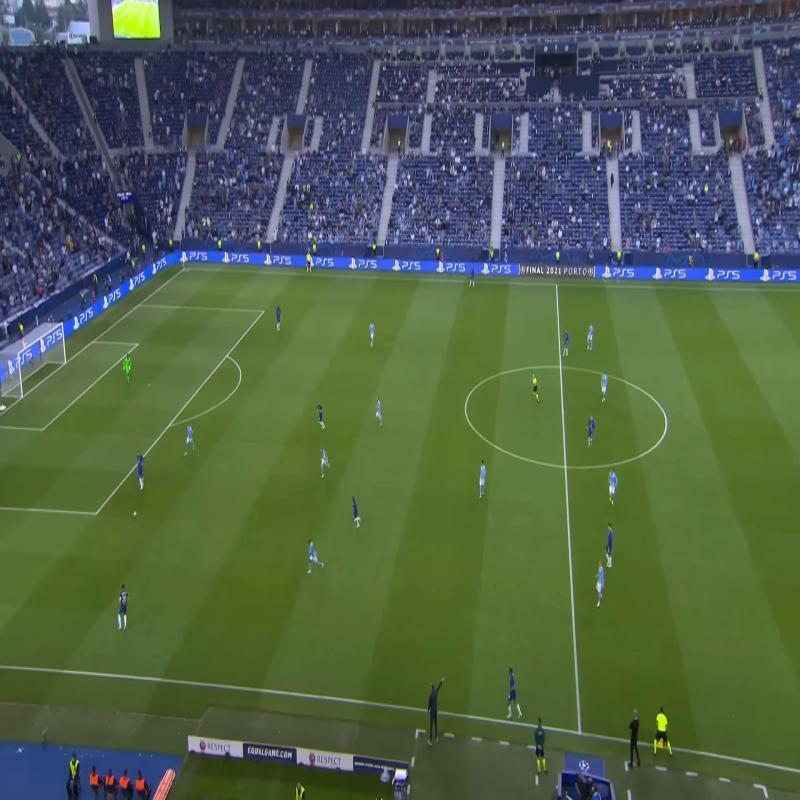1: (178, 262, 192, 276)
10: (220, 348, 234, 362)
11: (162, 418, 178, 432)
12: (88, 506, 104, 522)
13: (550, 278, 564, 292)
14: (555, 361, 566, 373)
15: (559, 460, 572, 473)
16: (572, 726, 588, 742)
2: (132, 298, 147, 313)
3: (87, 336, 99, 348)
7: (130, 336, 145, 352)
8: (34, 423, 50, 438)
9: (256, 305, 271, 318)
c: (660, 414, 676, 430), (457, 400, 472, 414)
